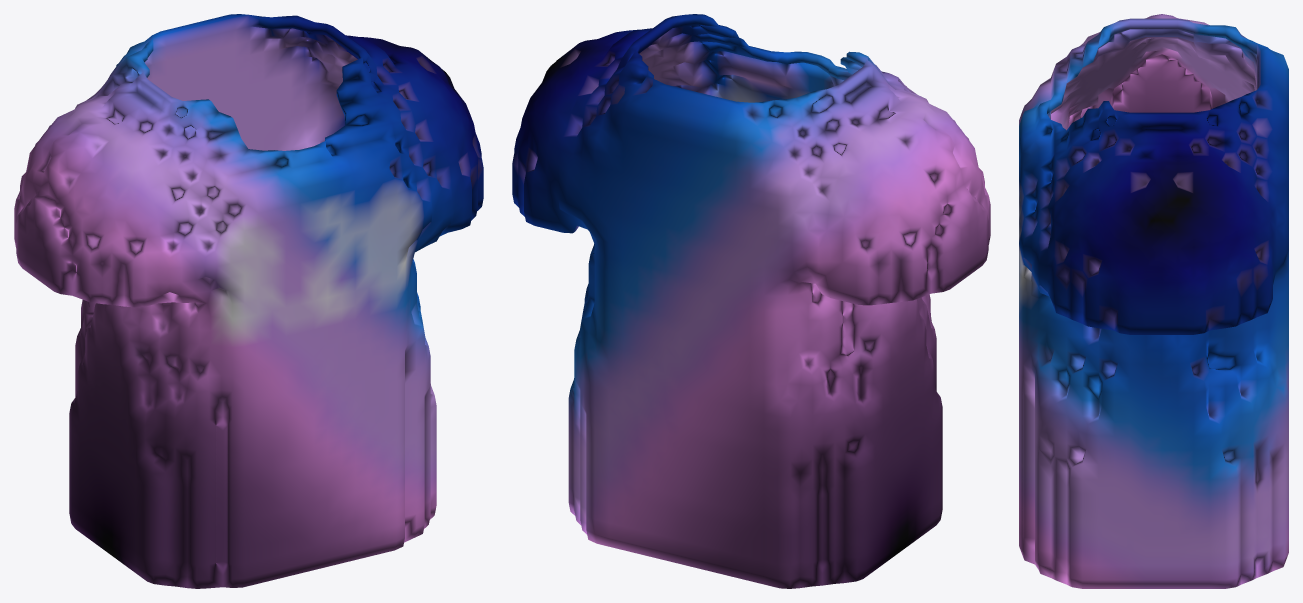
3 renders of one model, left to right at view 1: azimuth 30°, elevation 25°; view 2: azimuth 150°, elevation 25°; view 3: azimuth 270°, elevation 25°, orthographic. The views are drawn at different scales.
Size of the model in its own units: 1.55 by 1.58 by 0.85.
